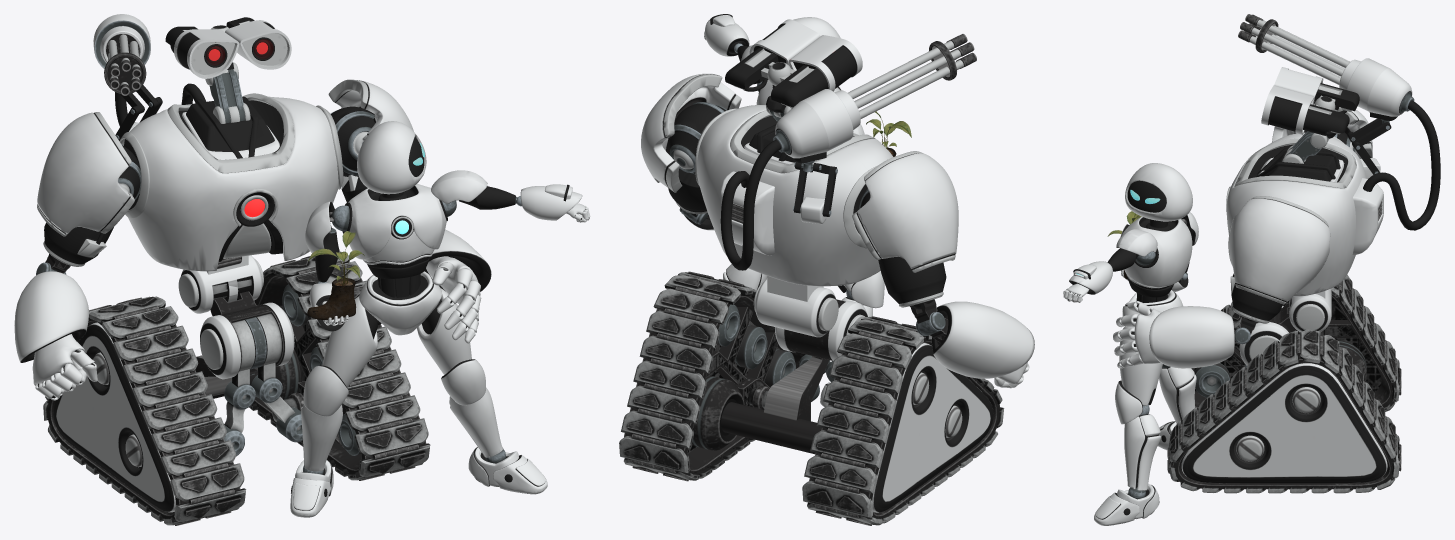
Rendered from wall-e_and_eve-small.glb.
The picture shows the model from 3 angles, left to right: view 1: azimuth 30°, elevation 25°; view 2: azimuth 150°, elevation 25°; view 3: azimuth 270°, elevation 25°; orthographic projection. The views are drawn at different scales.
Parts seen in each view (by area): view 1: Object_56, Object_6, Object_4; view 2: Object_56, Object_6, Object_4; view 3: Object_56, Object_6.
Boxes of the visible parts, x1,y1,x2,y2 form: Object_56: [14, 14, 491, 525]; Object_6: [290, 121, 590, 517]; Object_4: [307, 231, 364, 320]; Object_56: [619, 19, 1034, 525]; Object_6: [704, 14, 884, 406]; Object_4: [866, 111, 911, 156]; Object_56: [1113, 14, 1440, 493]; Object_6: [1063, 163, 1198, 525].
Bounding box in the file's own units: 9.22 × 8.74 × 7.97.
Materials: 3 (3 with a texture image).
